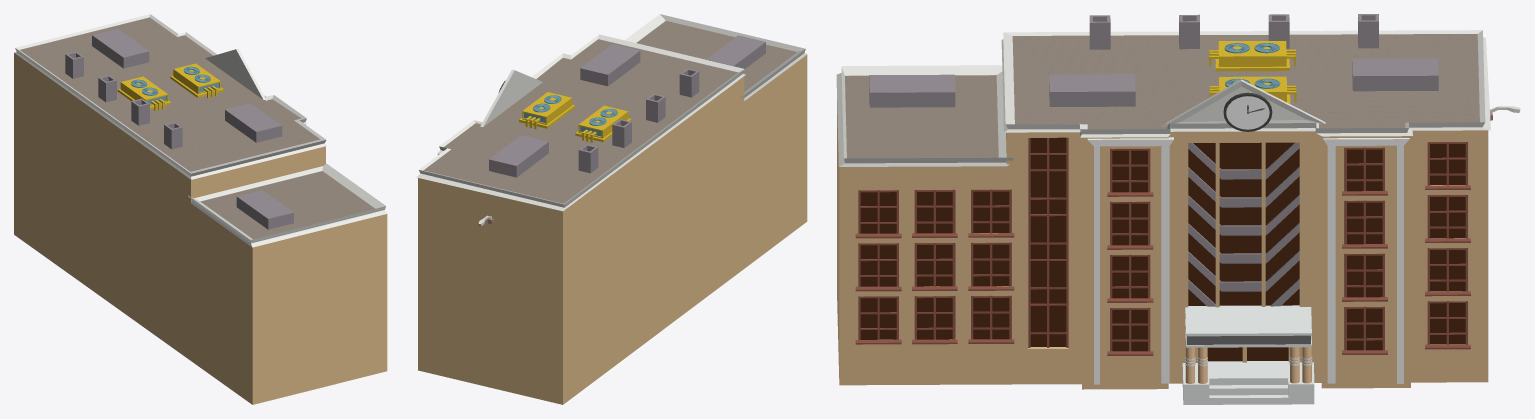
File: school.glb
3 renders of one model, left to right at view 1: azimuth 30°, elevation 25°; view 2: azimuth 150°, elevation 25°; view 3: azimuth 270°, elevation 25°, orthographic. The views are drawn at different scales.
Visible parts, largest first — view 1: Pillar2.957; view 2: Pillar2.957; view 3: Pillar2.957.
Boxes of the visible parts, x1,y1,x2,y2 form: Pillar2.957: (14, 14, 387, 404); Pillar2.957: (416, 14, 807, 404); Pillar2.957: (836, 14, 1520, 404).
Bounding box in the file's own units: 249 × 293 × 601.
1 material, 1 textured.
